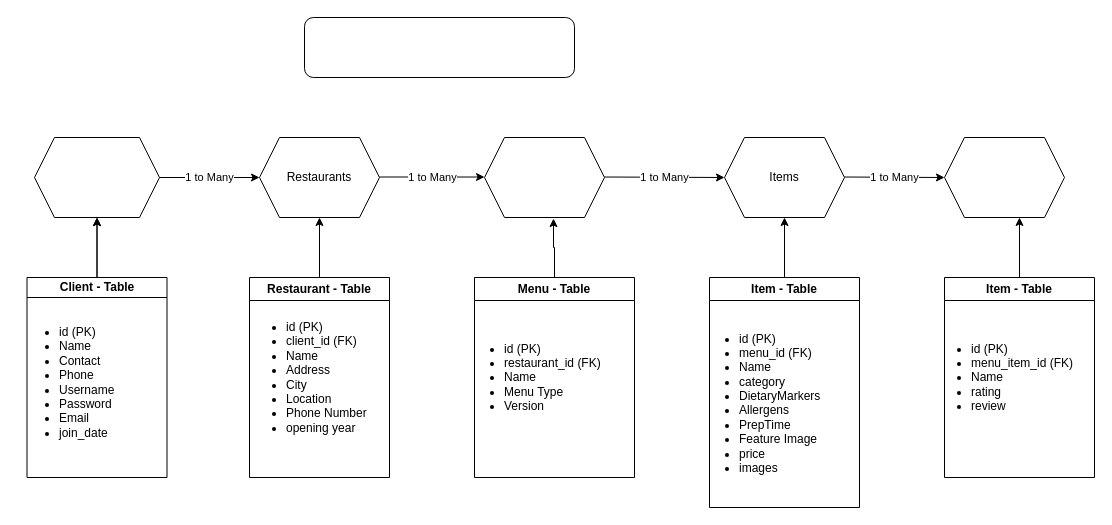
The diagram is 1112 pixels wide and 525 high, and some of its shapes have lost their labels. Each missing label, with the centre of its shape:
Clients: point 97,177
EatMe Menu - Database: point 439,47
Menus: point 544,177
Reviews: point 1004,177
